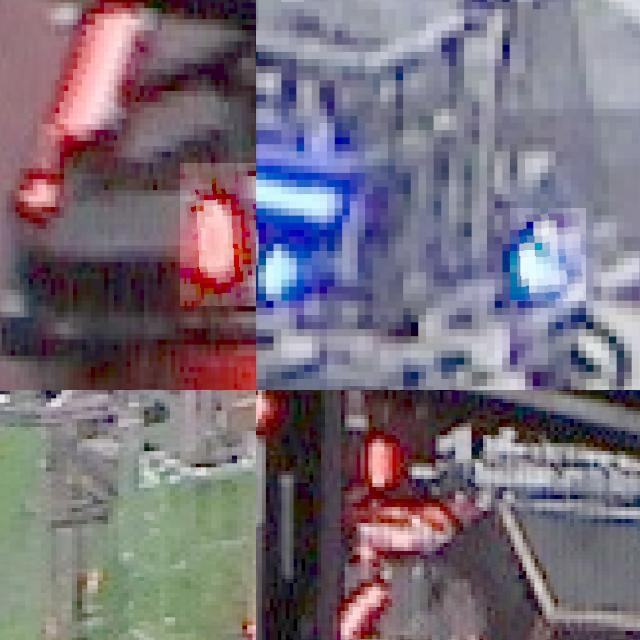B2: (510, 208, 586, 301), (256, 215, 296, 307)
R1: (372, 427, 491, 491)
R3: (179, 162, 256, 306)
